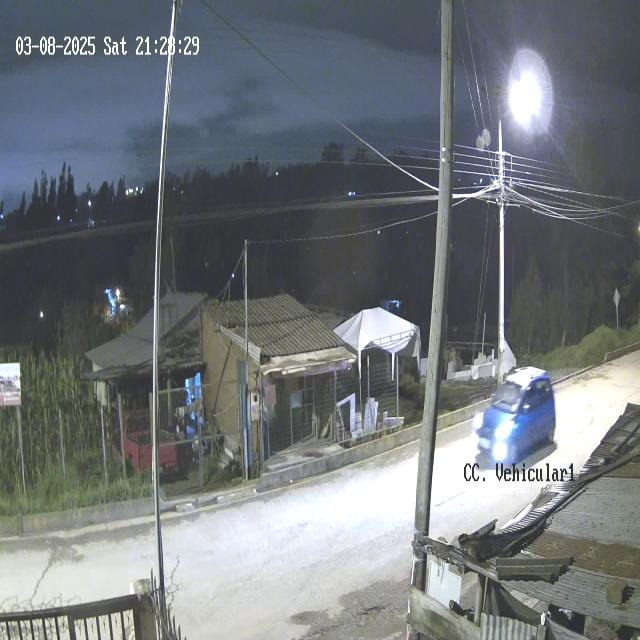SED: (474, 365, 557, 468)
